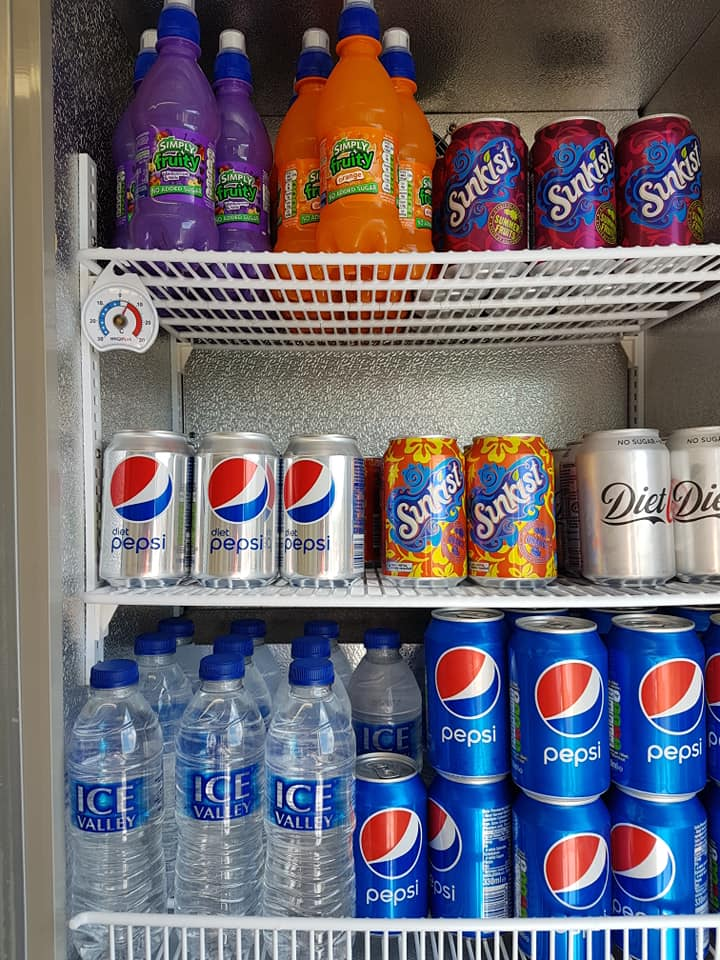icevalley: (269, 776, 340, 832), (189, 769, 256, 822), (71, 783, 139, 833)
pepsi: (632, 658, 707, 737), (541, 829, 609, 912), (610, 822, 679, 903), (533, 659, 605, 736), (434, 643, 502, 722), (356, 805, 424, 881), (104, 453, 174, 526), (201, 454, 271, 527), (283, 458, 338, 529)
simplyfruity: (156, 136, 202, 176), (330, 140, 374, 176), (216, 169, 257, 203)
sunkist: (470, 460, 548, 548), (448, 140, 516, 227), (393, 462, 462, 546), (544, 141, 612, 226), (634, 141, 702, 226)
